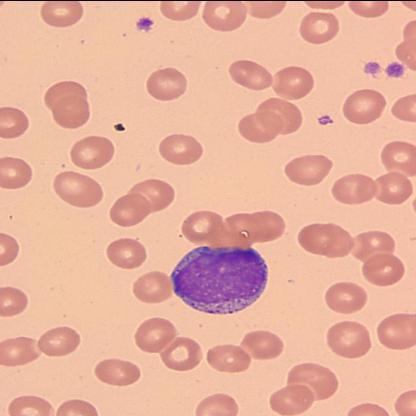Promyelocyte: (168, 245, 266, 313)
